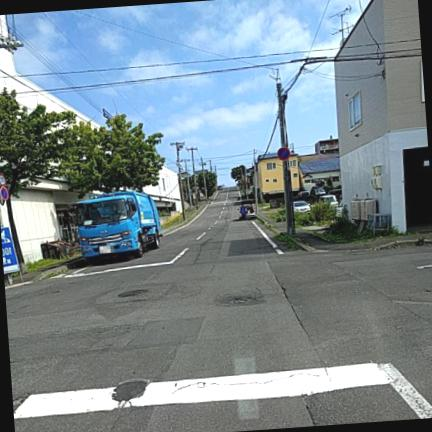Road: (5, 188, 431, 431)
